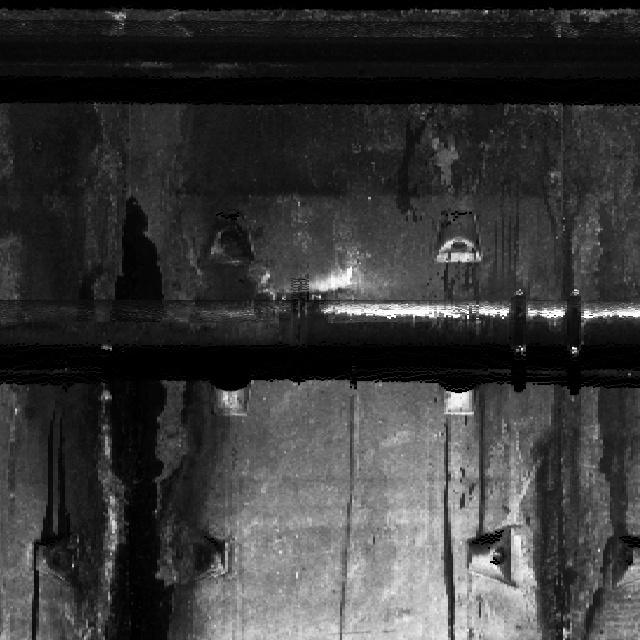leakage: (7, 101, 348, 297), (2, 380, 232, 635), (474, 378, 639, 639), (465, 108, 639, 304), (435, 412, 461, 639), (393, 107, 435, 222)
